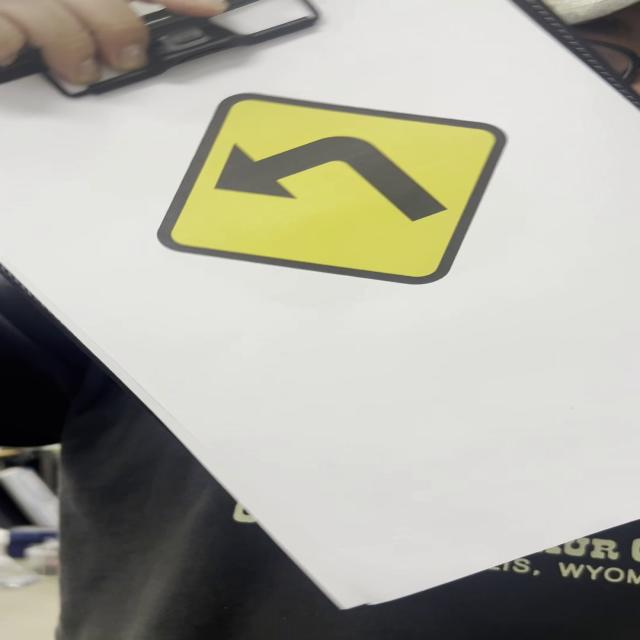left: (151, 94, 506, 292)
